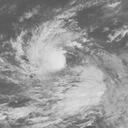cyclone: (17, 23, 115, 120)
